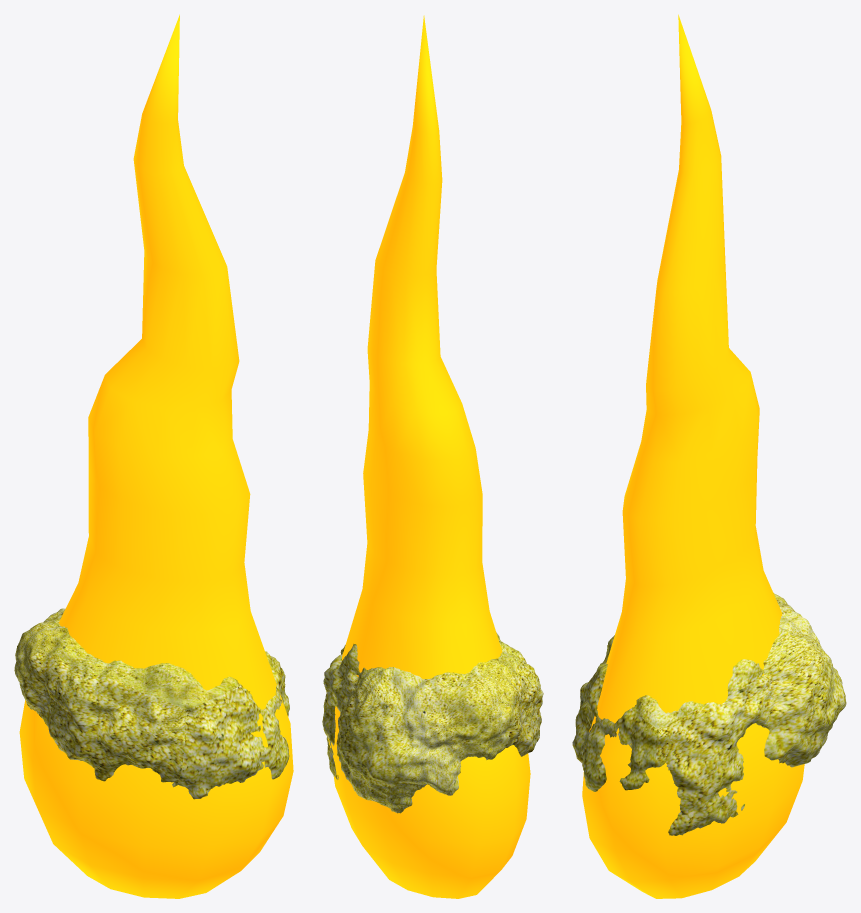
The model's file is asi.glb.
3 views of the same model, side by side, from view 1: azimuth 30°, elevation 25°; view 2: azimuth 150°, elevation 25°; view 3: azimuth 270°, elevation 25° (orthographic).
Visible parts, largest first — view 1: torche_fire_flame, Cube; view 2: torche_fire_flame, Cube; view 3: torche_fire_flame, Cube.
Part boxes in pixels (x1=…): torche_fire_flame: x1=19, y1=14, x2=293, y2=898; Cube: x1=14, y1=608, x2=289, y2=799; torche_fire_flame: x1=328, y1=15, x2=530, y2=898; Cube: x1=322, y1=632, x2=543, y2=813; torche_fire_flame: x1=582, y1=14, x2=804, y2=898; Cube: x1=572, y1=593, x2=846, y2=835.
Size of the model in its own units: 1.32 by 4.96 by 1.41.
2 materials, 1 textured.
